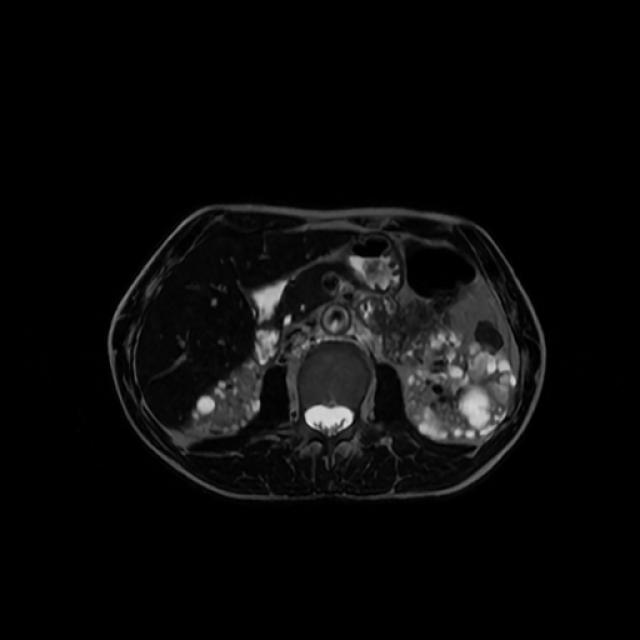sag: (187, 360, 262, 438)
sol: (403, 329, 518, 442)
